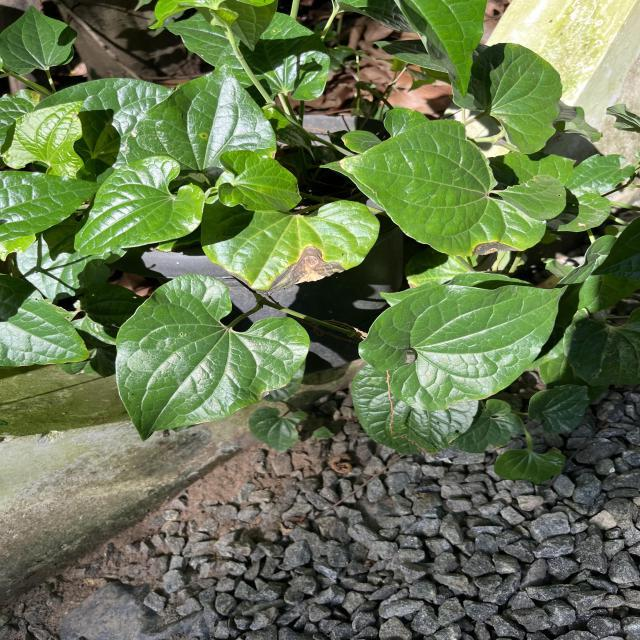Piper longum: (114, 272, 312, 444), (356, 282, 572, 414), (71, 153, 207, 259), (449, 40, 564, 157), (216, 148, 306, 214)
